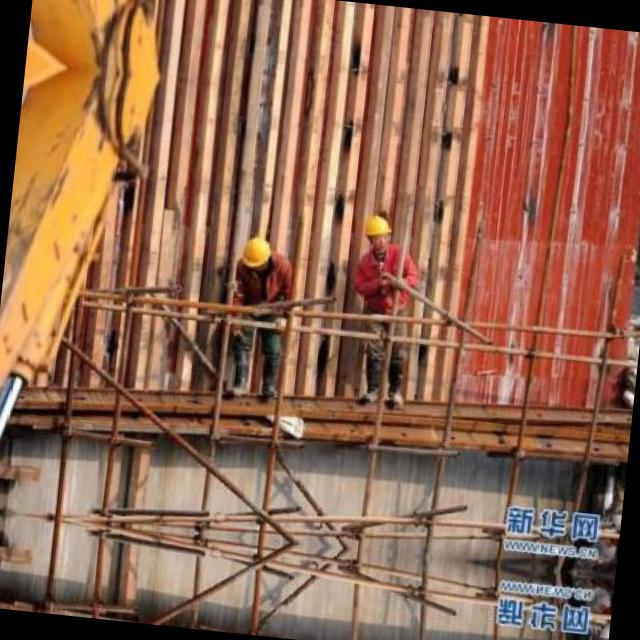helmet: (236, 230, 276, 278), (359, 211, 392, 252)
